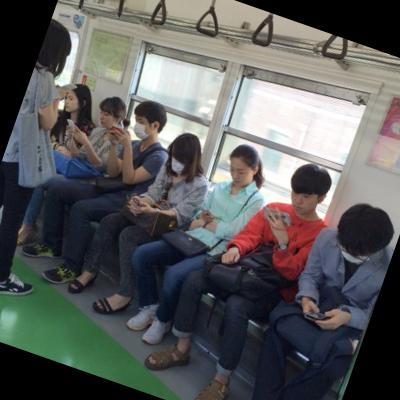with_mask: (131, 117, 154, 142), (165, 153, 188, 178)
without_mask: (285, 188, 318, 218), (225, 161, 254, 189), (95, 108, 119, 131), (60, 93, 80, 115)
